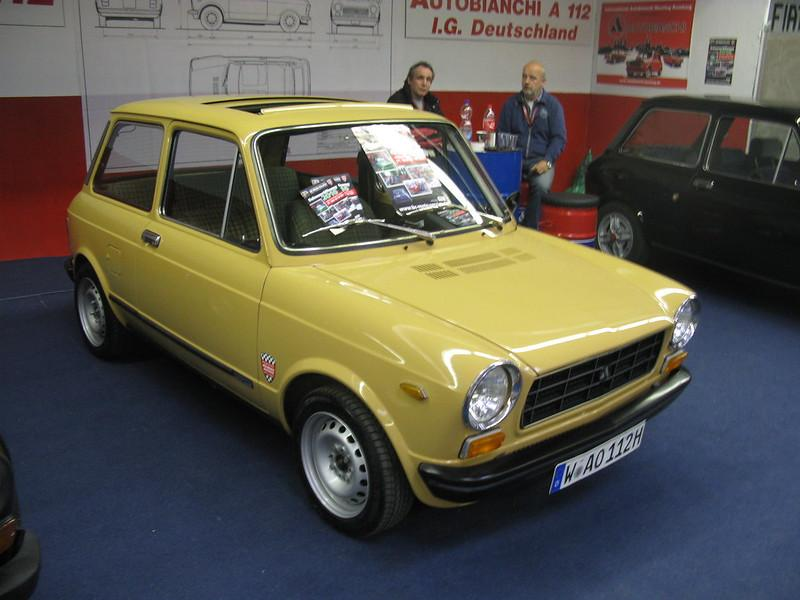windshield: (249, 117, 530, 272)
